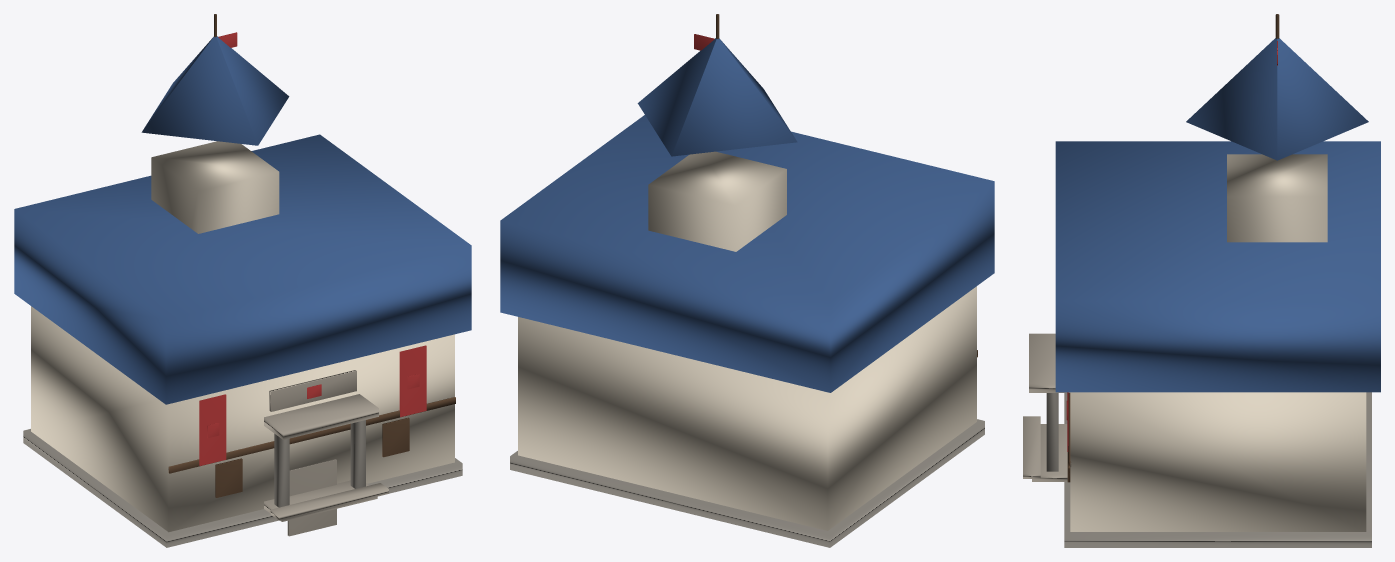
The model's file is guild.glb.
The picture shows the model from 3 angles, left to right: view 1: azimuth 30°, elevation 25°; view 2: azimuth 150°, elevation 25°; view 3: azimuth 270°, elevation 25°; orthographic projection. The views are drawn at different scales.
Visible parts, largest first — view 1: roof, walls, tower_roof, tower_base, foundation, sign_base, door, banner_left, banner_right, sign_board, porch_top, trim_band (+5 smaller); view 2: roof, walls, tower_roof, tower_base, foundation; view 3: roof, walls, tower_roof, tower_base, foundation, sign_base, porch_top, porch_base, column_right.
Part boxes in pixels (left/top/right/bottom): roof: left=14, top=134, right=471, bottom=404; walls: left=31, top=306, right=454, bottom=532; tower_roof: left=141, top=36, right=289, bottom=145; tower_base: left=151, top=141, right=279, bottom=233; foundation: left=23, top=429, right=462, bottom=547; sign_base: left=264, top=394, right=378, bottom=439; door: left=287, top=459, right=336, bottom=536; banner_left: left=199, top=394, right=226, bottom=465; banner_right: left=399, top=345, right=426, bottom=416; sign_board: left=269, top=370, right=356, bottom=411; porch_top: left=270, top=483, right=388, bottom=520; trim_band: left=168, top=397, right=455, bottom=473; roof: left=500, top=115, right=994, bottom=392; walls: left=518, top=286, right=976, bottom=530; tower_roof: left=637, top=38, right=797, bottom=156; tower_base: left=648, top=151, right=786, bottom=251; foundation: left=510, top=419, right=984, bottom=547; roof: left=1055, top=141, right=1380, bottom=392; walls: left=1070, top=392, right=1366, bottom=531; tower_roof: left=1186, top=38, right=1368, bottom=160; tower_base: left=1227, top=154, right=1327, bottom=242; foundation: left=1064, top=392, right=1371, bottom=547; sign_base: left=1029, top=333, right=1070, bottom=392; porch_top: left=1023, top=416, right=1040, bottom=478; porch_base: left=1032, top=424, right=1067, bottom=481; column_right: left=1046, top=393, right=1058, bottom=471.
Bounding box in the file's own units: 12.8 × 17.8 × 12.1.
